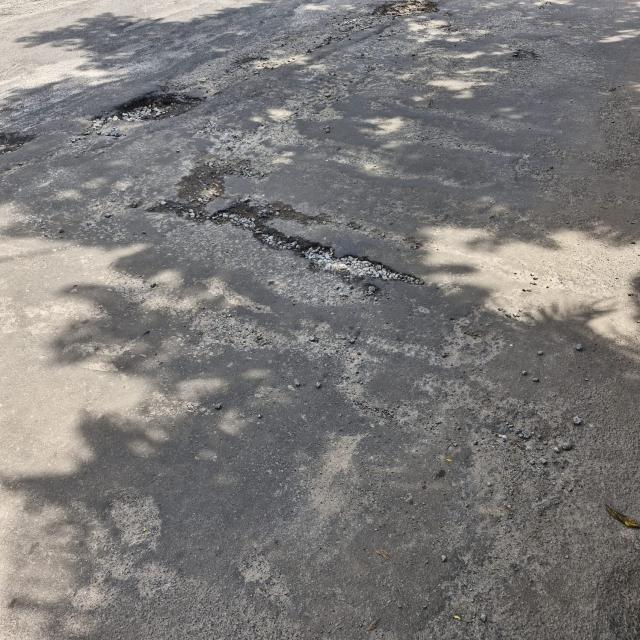pothole: (162, 193, 426, 294), (444, 388, 596, 506), (411, 535, 522, 640), (213, 304, 359, 370), (313, 0, 462, 53), (82, 80, 222, 133), (106, 486, 173, 554), (590, 553, 640, 640), (180, 158, 259, 190), (0, 118, 54, 164), (502, 42, 559, 78), (235, 49, 281, 80)
